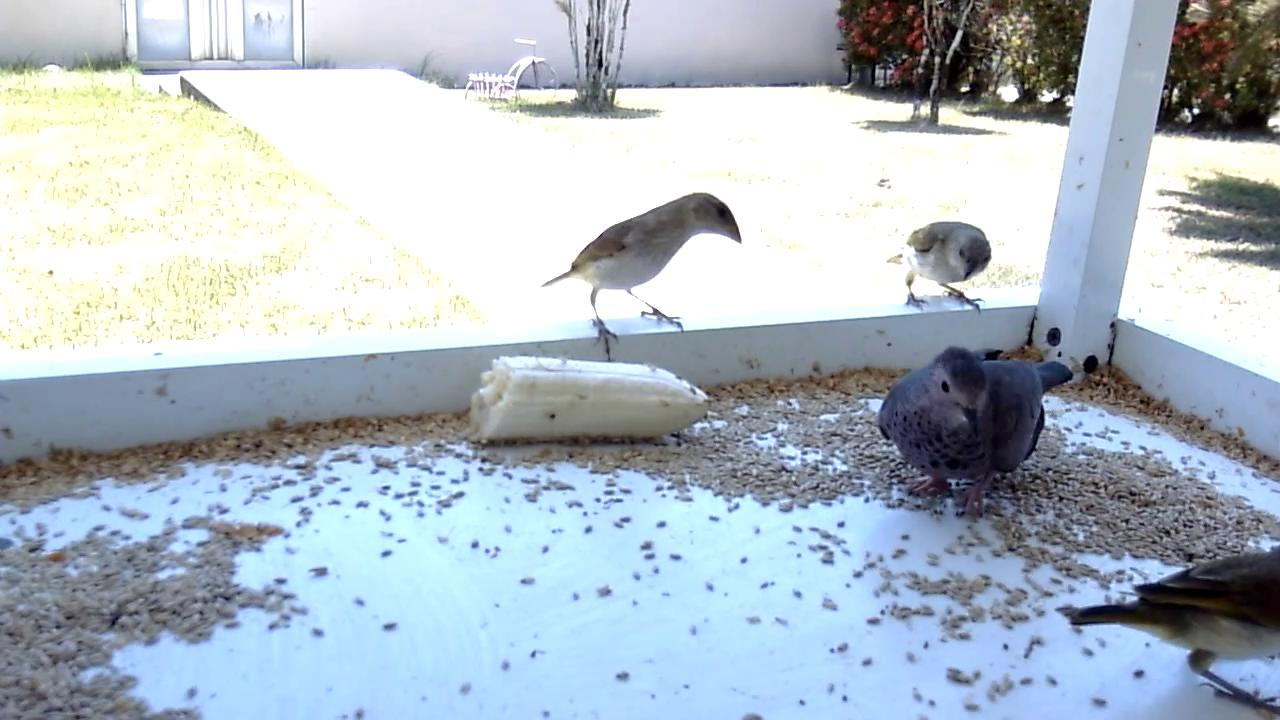canario_do_amazonas: (1059, 551, 1280, 720), (540, 190, 745, 363), (886, 220, 997, 317)
rolinha: (873, 345, 1077, 524)
